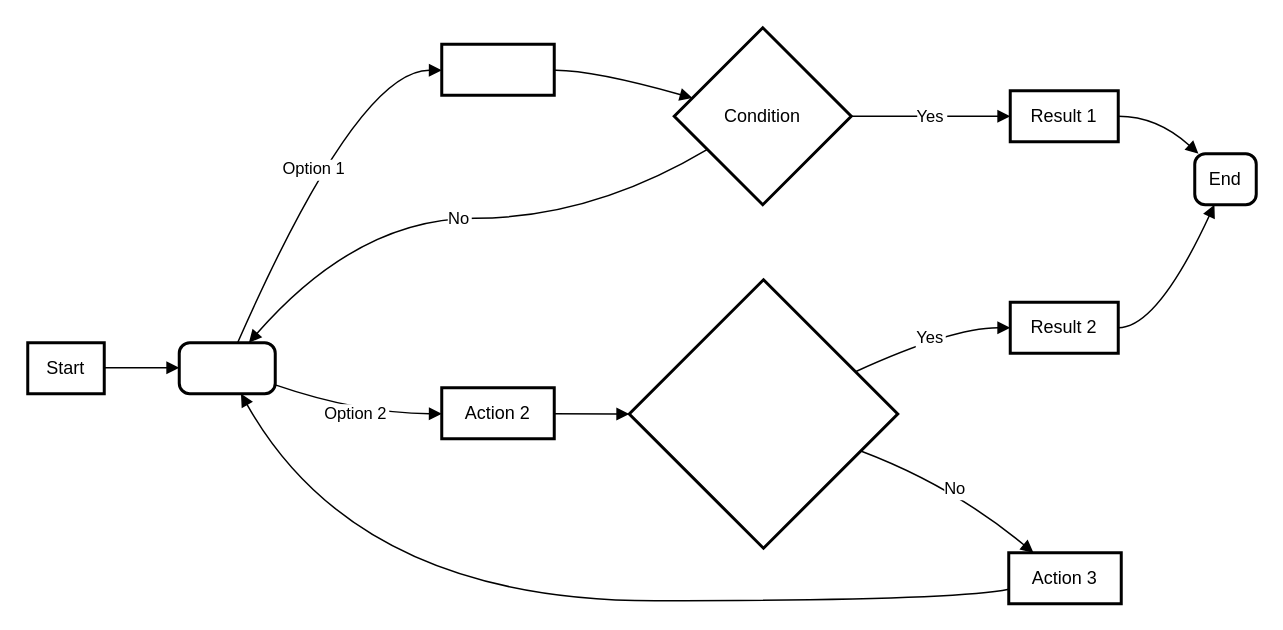
Some shapes in this 1283 by 630 pixel diagram are drawn without their labels. Here are the shapes that lost their labels. From the top down, the centre of each, then its label:
At (x=497, y=69): "Action 1".
At (x=226, y=367): "Decide".
At (x=762, y=413): "Another condition".
